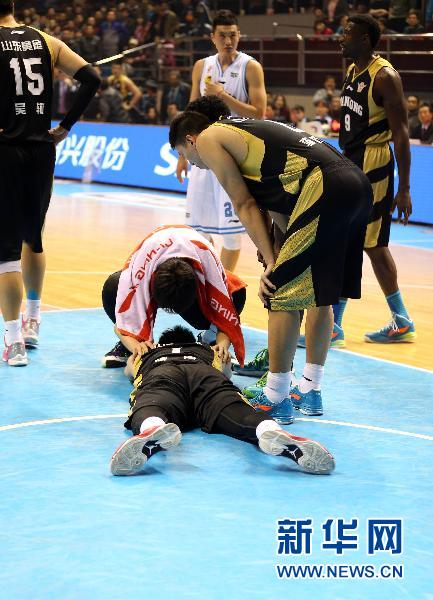10+: (1, 1, 433, 493)
down: (94, 319, 347, 483)
